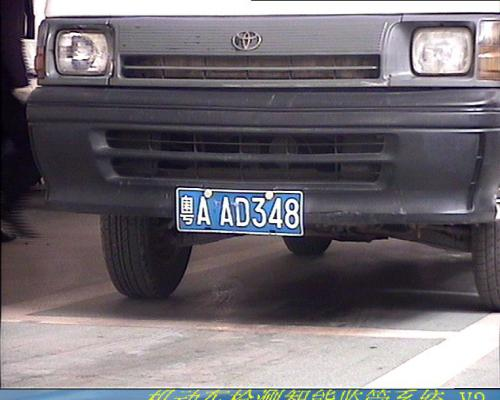Carplate: (168, 181, 314, 239)
